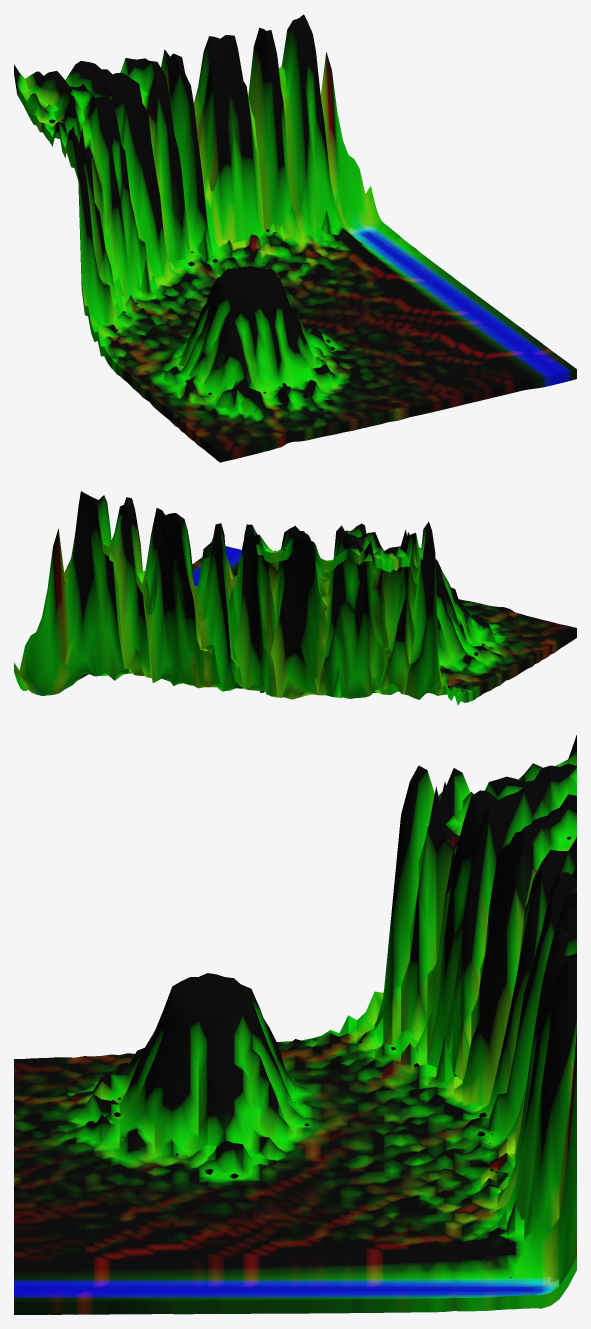
File: Terrain_01_04.fbx
3 renders of one model, top to bottom at view 1: azimuth 30°, elevation 25°; view 2: azimuth 150°, elevation 25°; view 3: azimuth 270°, elevation 25°, orthographic. The views are drawn at different scales.
Visible parts, largest first — view 1: Terrain_01_04_LOD0; view 2: Terrain_01_04_LOD0; view 3: Terrain_01_04_LOD0.
Boxes of the visible parts, box(x1,y1,x2,y2) form: Terrain_01_04_LOD0: box(14, 14, 576, 462); Terrain_01_04_LOD0: box(14, 491, 576, 705); Terrain_01_04_LOD0: box(14, 735, 576, 1314).
Size of what is drawn, in the model's own units: 384 by 258 by 384.
